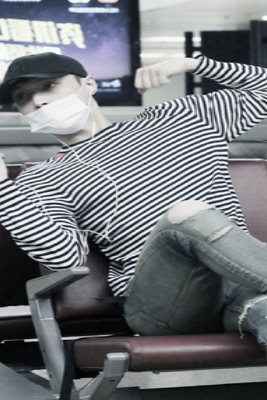mask_weared_incorrect: (12, 77, 86, 133)
